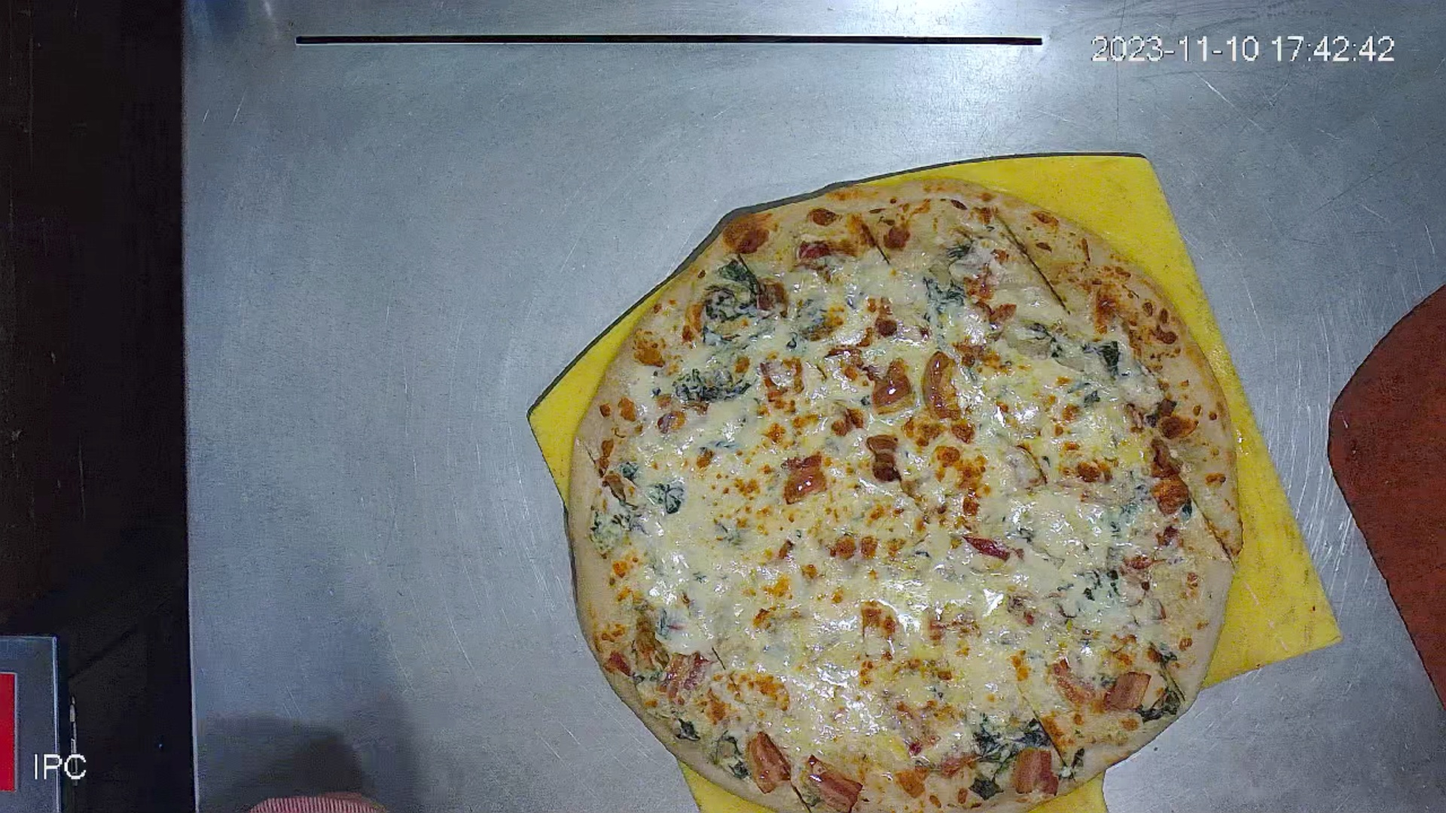pepporoni: (568, 177, 1243, 808)
